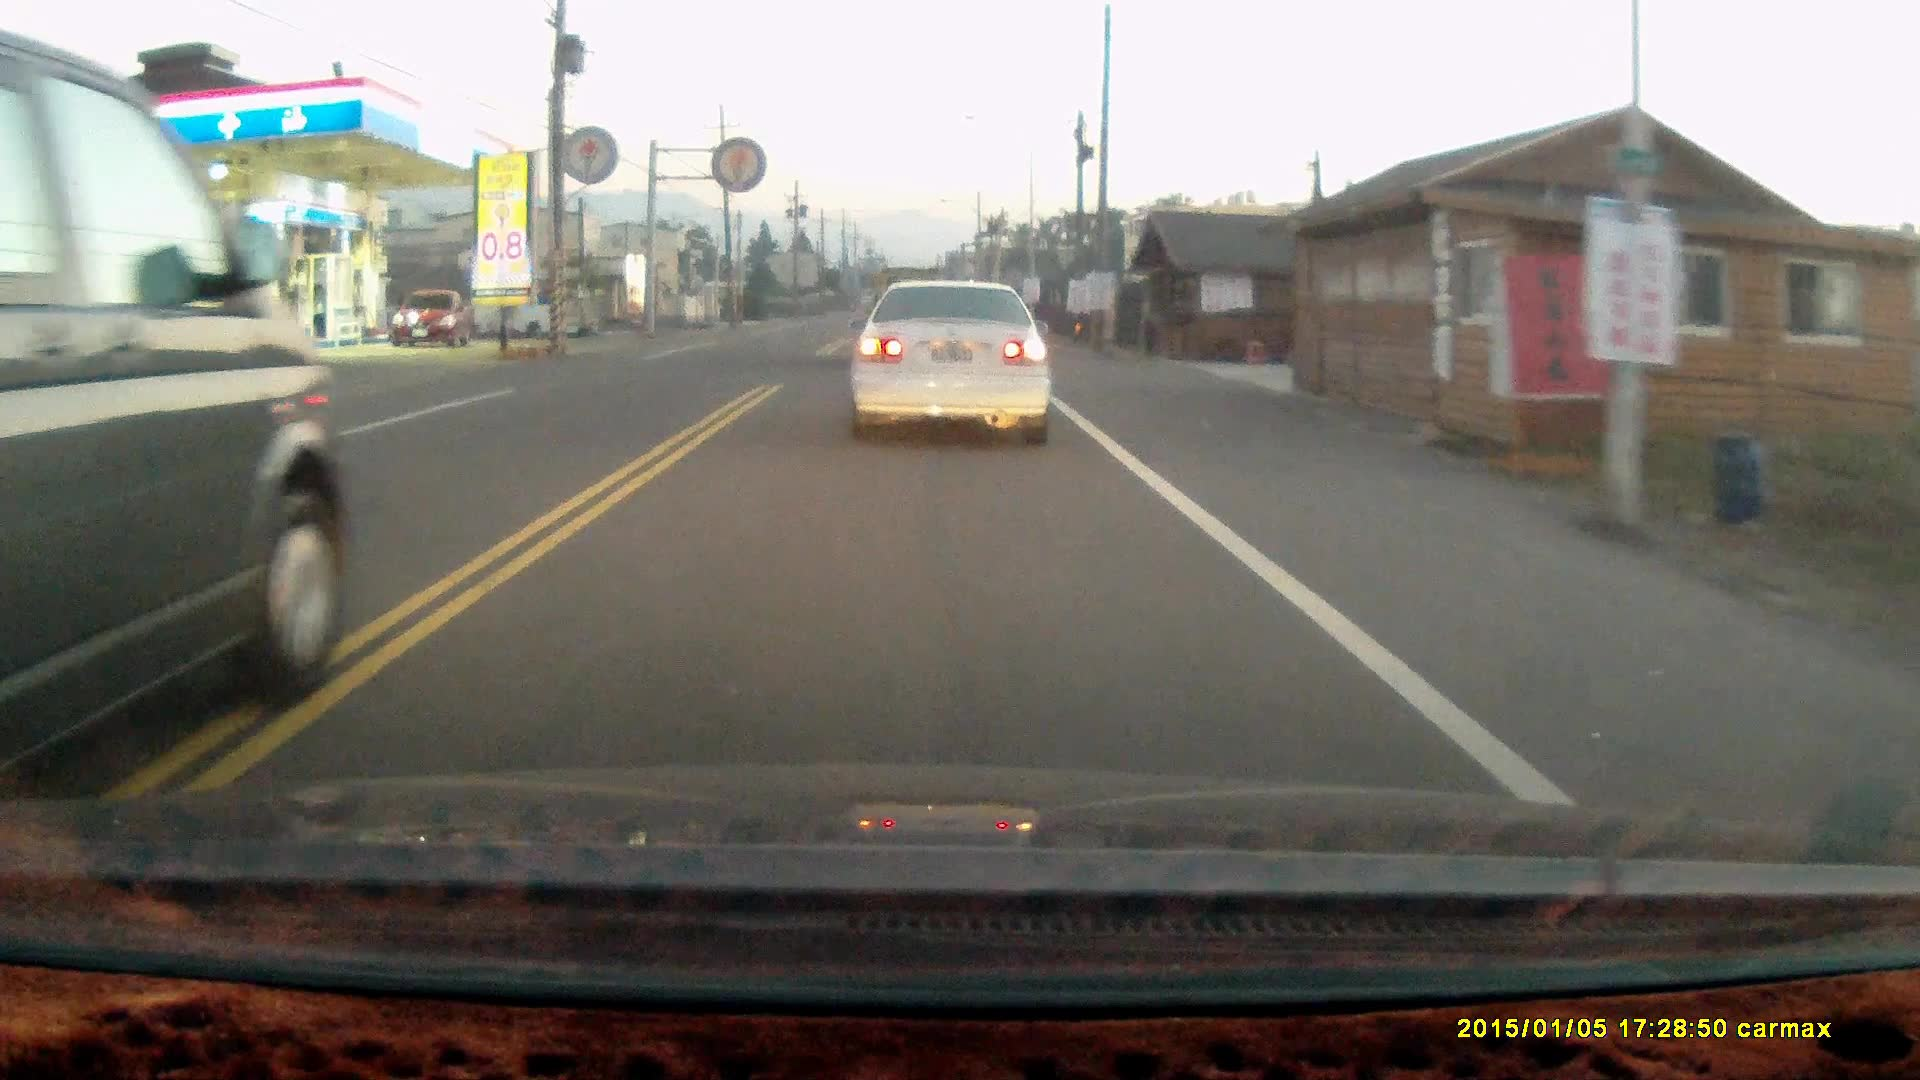vehicle: (1, 25, 342, 787), (847, 280, 1056, 456), (388, 291, 469, 345)
